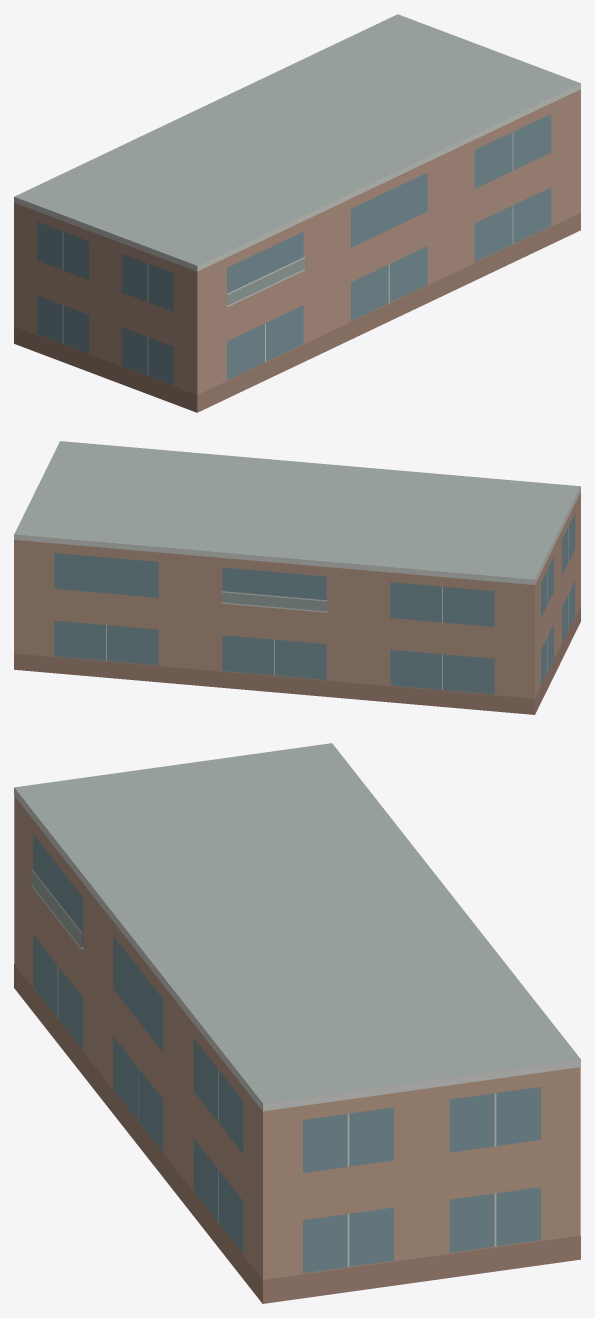
Rendered from survey-upis-32933756.glb.
The picture shows the model from 3 angles, top to bottom: view 1: azimuth 30°, elevation 25°; view 2: azimuth 150°, elevation 25°; view 3: azimuth 270°, elevation 25°; orthographic projection. The views are drawn at different scales.
Visible parts, largest first — view 1: survey-upis-32933756.tmp; view 2: survey-upis-32933756.tmp; view 3: survey-upis-32933756.tmp.
Part boxes in pixels (x1,y1,x2,y2): survey-upis-32933756.tmp: [14, 14, 580, 412]; survey-upis-32933756.tmp: [14, 441, 580, 714]; survey-upis-32933756.tmp: [14, 743, 580, 1303].
Bounding box in the file's own units: 23.53 × 6.1 × 15.64.
